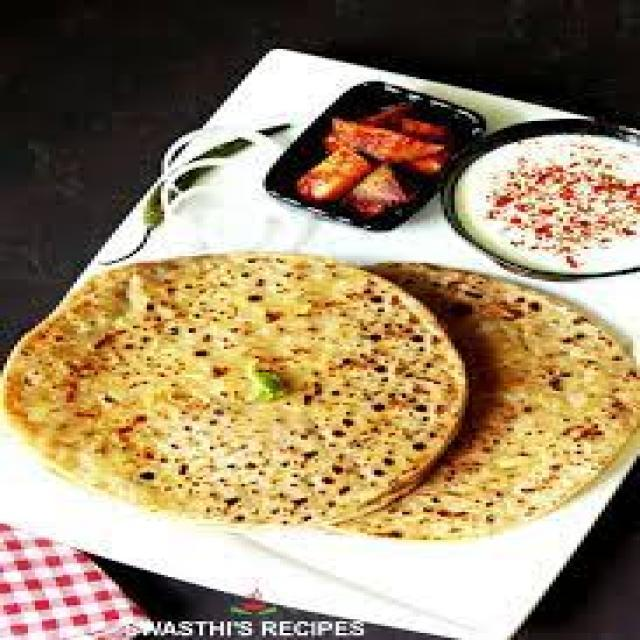papad: (419, 272, 639, 495)
roti: (37, 240, 480, 489)
sweet: (443, 128, 637, 272)
veg-fry: (254, 82, 482, 229)
